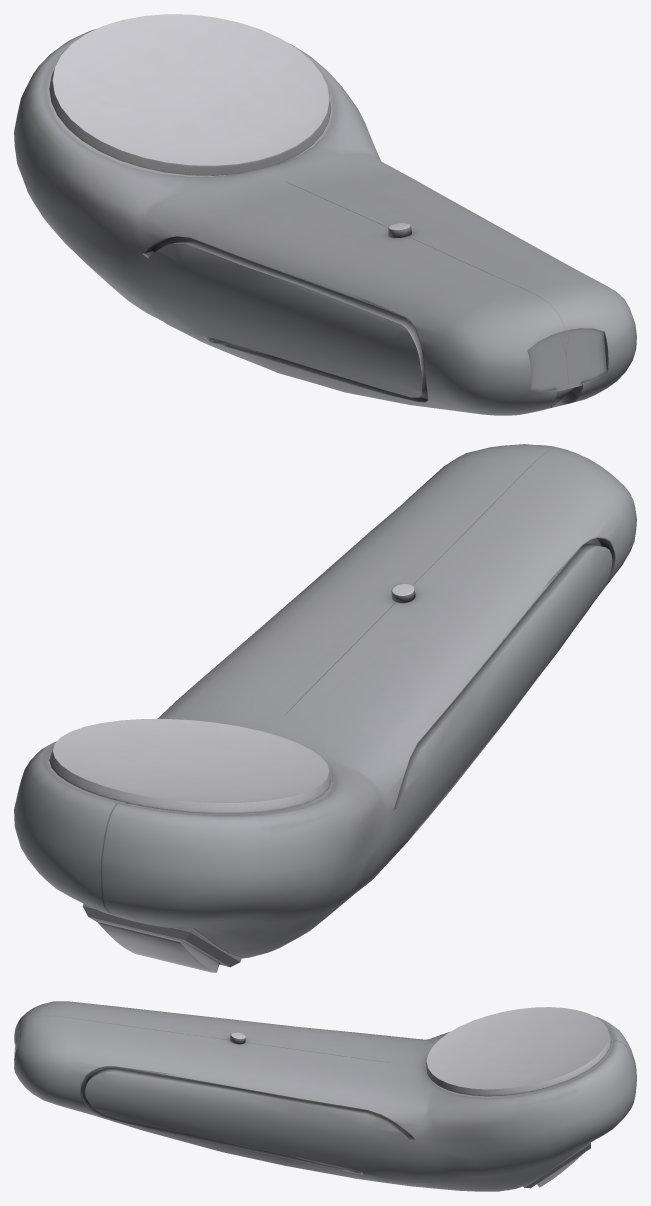
The model's file is vr_controller_01_mrhat.obj.
The picture shows the model from 3 angles, top to bottom: view 1: azimuth 30°, elevation 25°; view 2: azimuth 150°, elevation 25°; view 3: azimuth 270°, elevation 25°; orthographic projection. The views are drawn at different scales.
Parts seen in each view (by area): view 1: vr_controller_01_mrhat_vrtroller_mrhat_diff_mat; view 2: vr_controller_01_mrhat_vrtroller_mrhat_diff_mat; view 3: vr_controller_01_mrhat_vrtroller_mrhat_diff_mat.
Boxes of the visible parts, box(x1,y1,x2,y2) form: vr_controller_01_mrhat_vrtroller_mrhat_diff_mat: box(14, 14, 636, 415); vr_controller_01_mrhat_vrtroller_mrhat_diff_mat: box(14, 444, 636, 972); vr_controller_01_mrhat_vrtroller_mrhat_diff_mat: box(14, 1001, 636, 1191).
Bounding box in the file's own units: 0.0492 × 0.0385 × 0.1338.
Materials: 1 (1 with a texture image).
